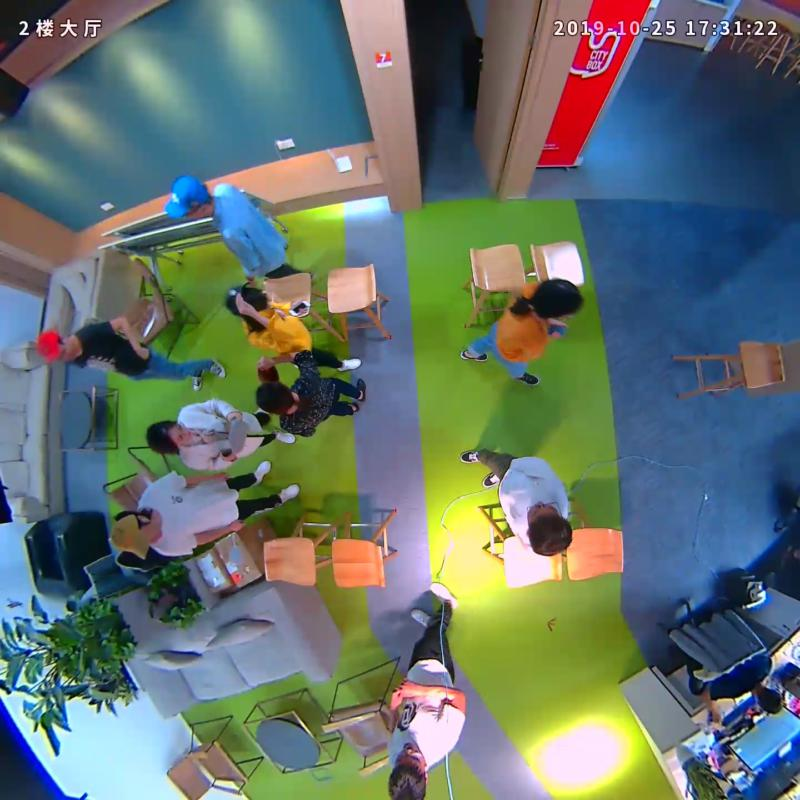head: (526, 501, 572, 558), (109, 512, 162, 560), (388, 742, 428, 800), (163, 175, 212, 222), (531, 278, 584, 319), (226, 282, 271, 323), (146, 419, 193, 453), (35, 330, 76, 364), (254, 383, 296, 416)
